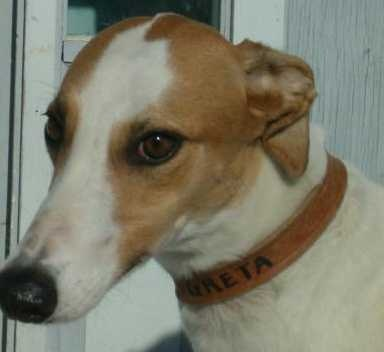Dog: (2, 13, 343, 336)
